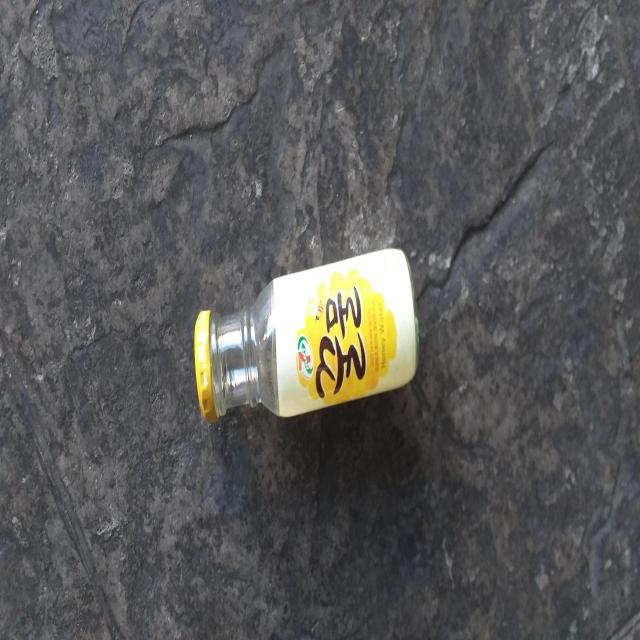glass: (195, 248, 419, 423)
